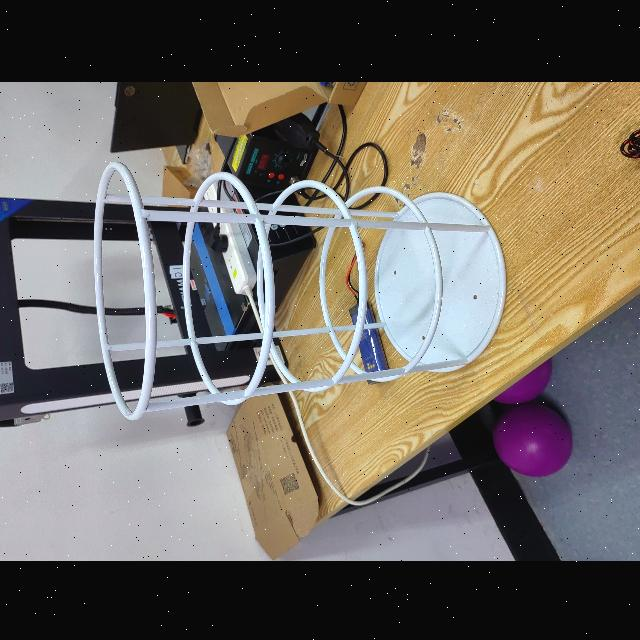S: (90, 156, 510, 422)
